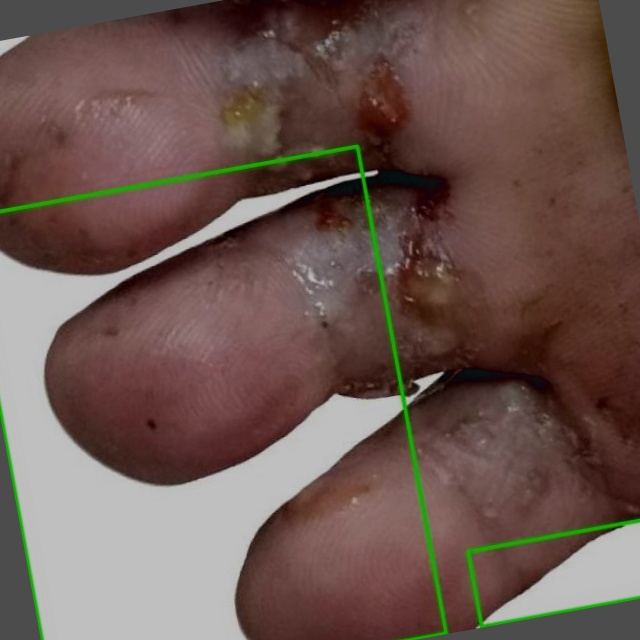Scabies: (0, 146, 446, 639), (468, 520, 639, 626)
